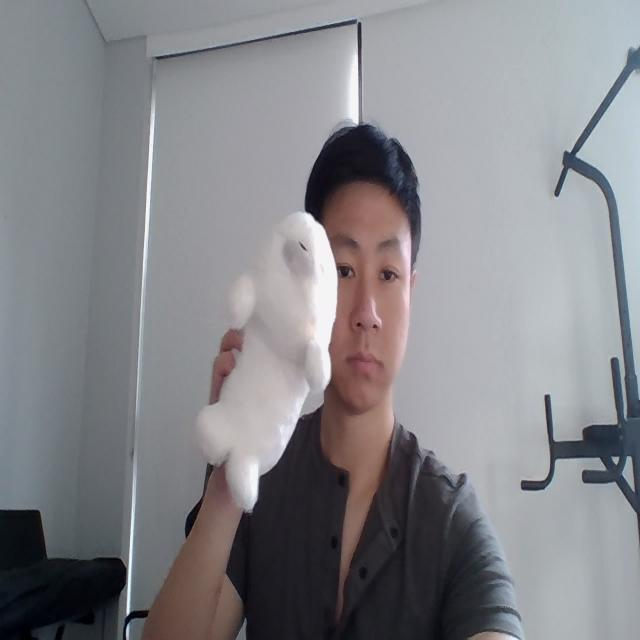seal_bb: (196, 210, 338, 514)
